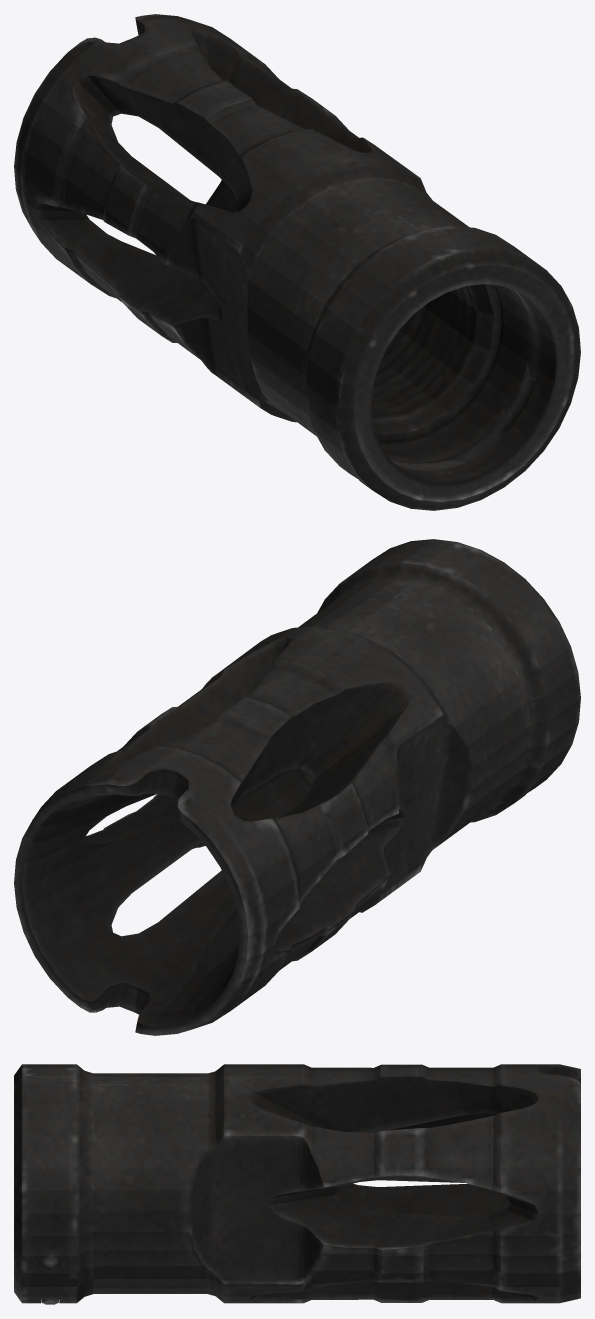
The picture shows the model from 3 angles, top to bottom: view 1: azimuth 30°, elevation 25°; view 2: azimuth 150°, elevation 25°; view 3: azimuth 270°, elevation 25°; orthographic projection. The views are drawn at different scales.
Parts seen in each view (by area): view 1: TW_622f07cfae33bc505b2c4dd5_PZ_Import; view 2: TW_622f07cfae33bc505b2c4dd5_PZ_Import; view 3: TW_622f07cfae33bc505b2c4dd5_PZ_Import.
Part boxes in pixels (left/top/right/bottom): TW_622f07cfae33bc505b2c4dd5_PZ_Import: left=14, top=14, right=580, bottom=510; TW_622f07cfae33bc505b2c4dd5_PZ_Import: left=14, top=539, right=580, bottom=1035; TW_622f07cfae33bc505b2c4dd5_PZ_Import: left=14, top=1064, right=580, bottom=1304.
Size of the model in its own units: 0.0122 by 0.0289 by 0.0123.
1 material, 1 textured.
